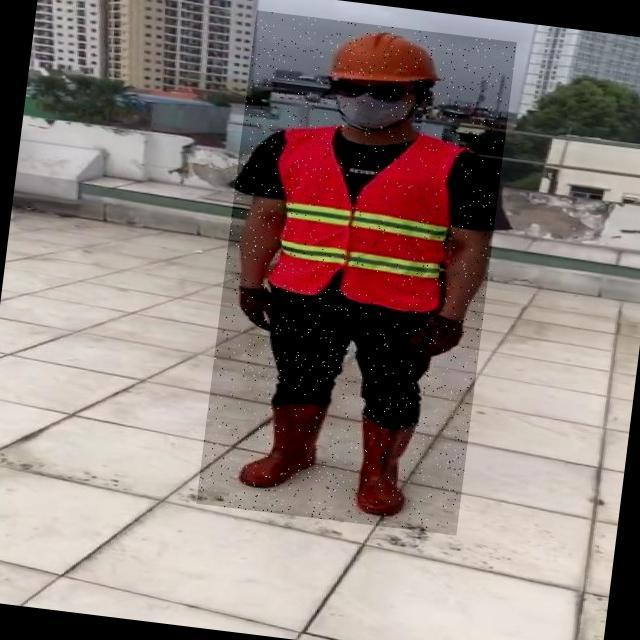Gloves: (406, 317, 467, 361), (235, 285, 285, 331)
Helmet: (319, 21, 451, 97)
Human: (196, 10, 517, 535)
Safety Boot: (239, 393, 328, 496), (345, 413, 418, 518)
Safety Vest: (265, 121, 461, 316)
